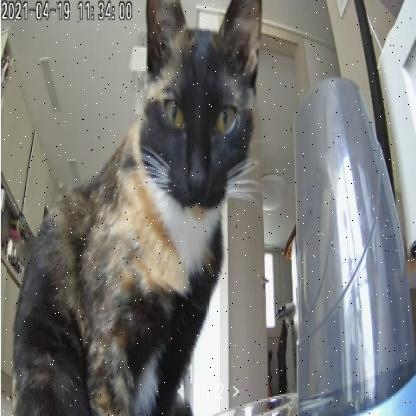cat: (13, 0, 284, 412)
